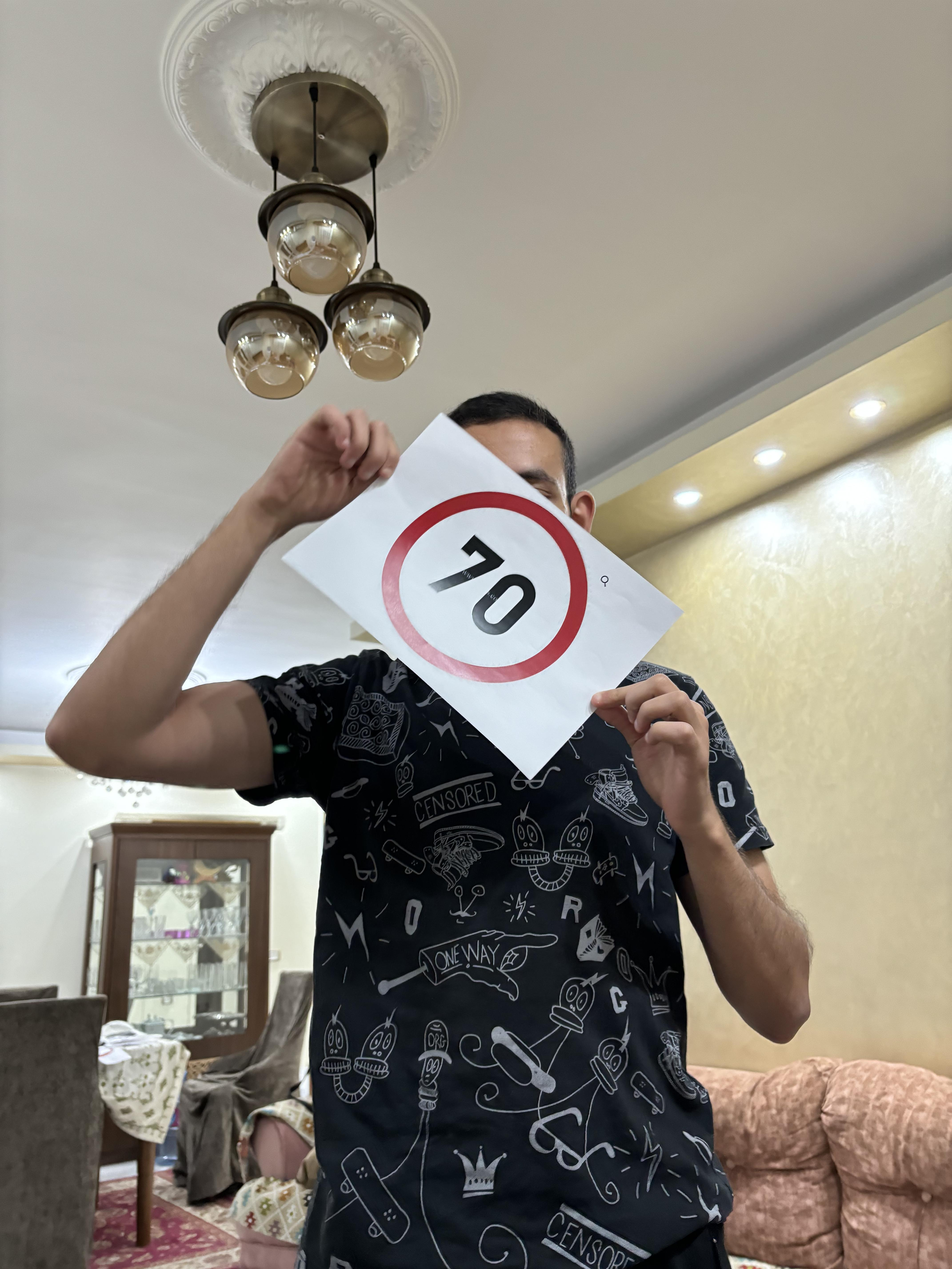70-Speed: (372, 489, 589, 687)
